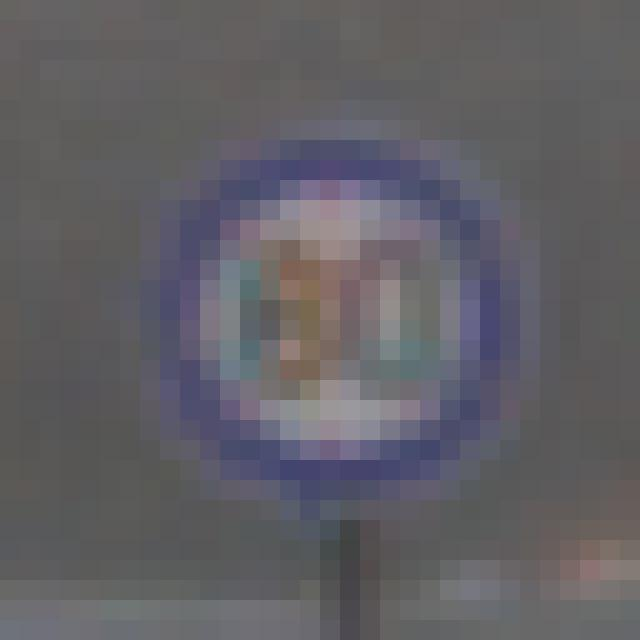SPEED-LIMIT-80: (165, 141, 514, 491)
